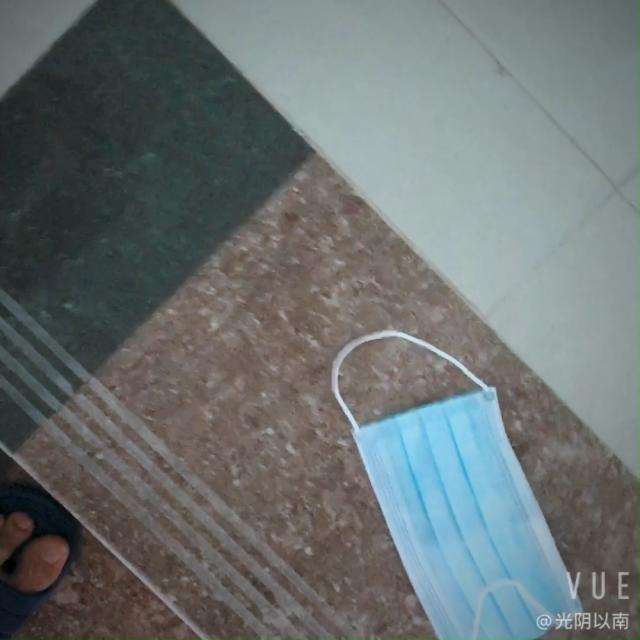face mask: (352, 349, 576, 637)
